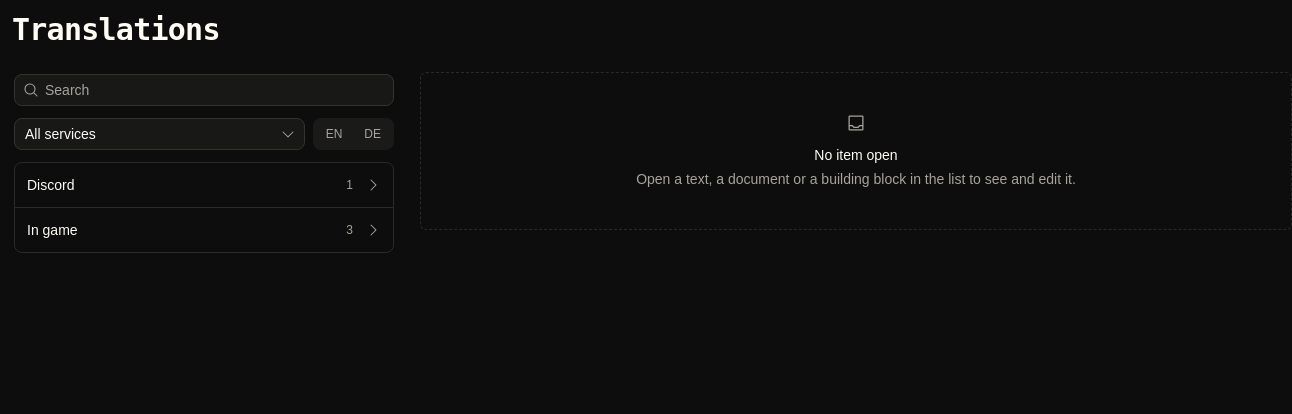
the list of documents › lists a game document under the game, named by each server that shows it
Step 1. Click the button "In game 3" → (52, 230), box [15,208,393,252]
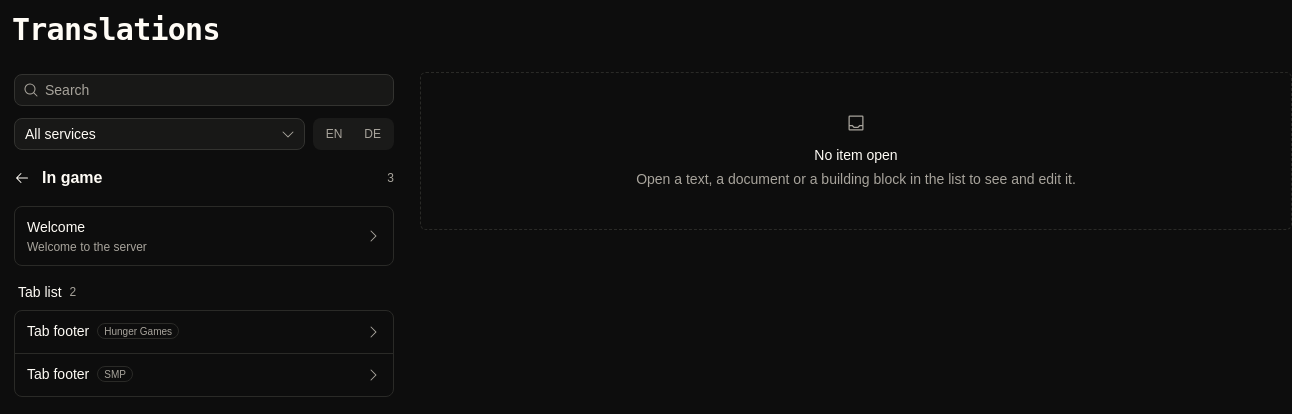
Result: the buttons read "Tab footerHunger Games", "Tab footerSMP", in this order at [15,311,393,353]; [15,354,393,396]
